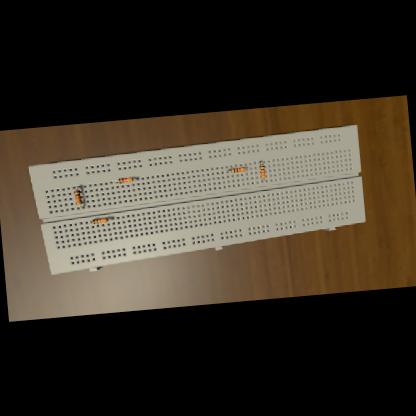breadboard: (27, 124, 367, 276)
resistor: (74, 188, 82, 204), (118, 177, 134, 183), (232, 166, 246, 172), (260, 164, 266, 178), (92, 218, 108, 223)
wire: (80, 204, 85, 206), (258, 162, 262, 164), (134, 178, 138, 180), (227, 170, 231, 172), (76, 186, 80, 188), (108, 218, 113, 219), (116, 180, 118, 182), (262, 178, 264, 180), (246, 168, 247, 169)
